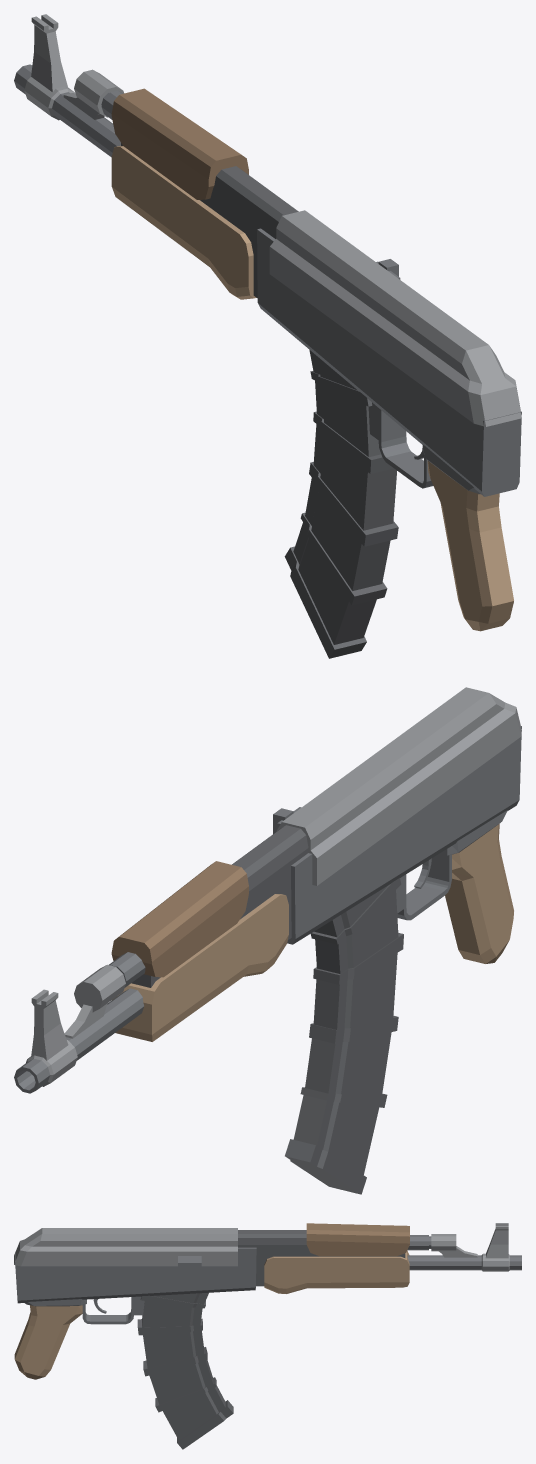
The picture shows the model from 3 angles, top to bottom: view 1: azimuth 30°, elevation 25°; view 2: azimuth 150°, elevation 25°; view 3: azimuth 270°, elevation 25°; orthographic projection. The views are drawn at different scales.
Parts seen in each view (by area): view 1: body, mag; view 2: body, mag; view 3: body, mag, charge.
Boxes of the visible parts, <box> form: body: <box>14,14,521,631</box>; mag: <box>284,350,398,658</box>; body: <box>14,687,521,1093</box>; mag: <box>285,878,403,1194</box>; body: <box>14,1223,521,1379</box>; mag: <box>137,1292,233,1449</box>; charge: <box>178,1256,201,1276</box>.
Size of the model in its own units: 0.0636 by 0.3063 by 0.6392.
